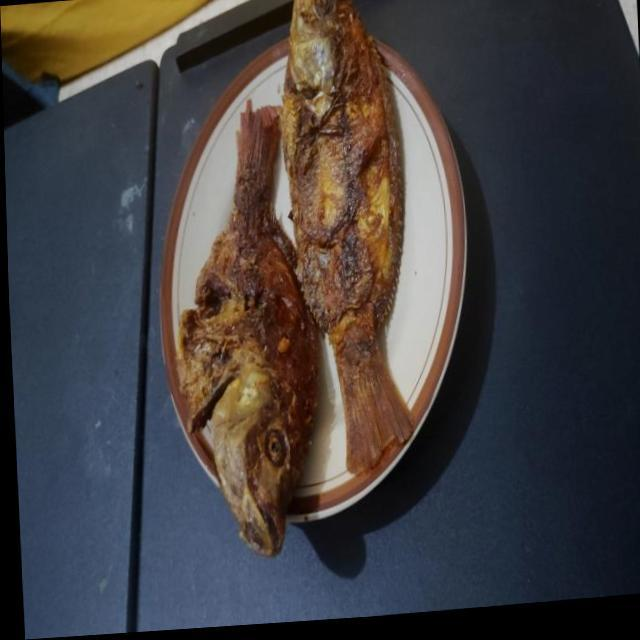ikan_mujair: (176, 100, 318, 555), (279, 0, 414, 477)
